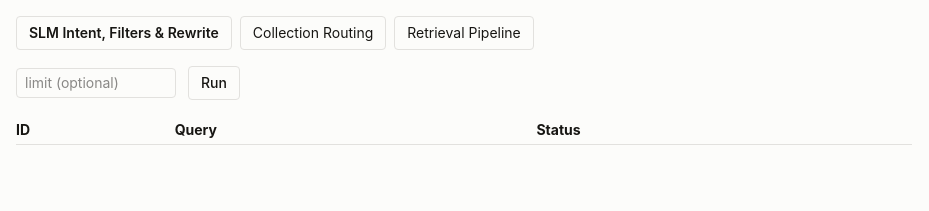
SuiteRunner › runs the selected suite and renders a case row as it streams in
Click the button "Run" at coordinates (214, 83), box x1=188 y1=66 x2=240 y2=100
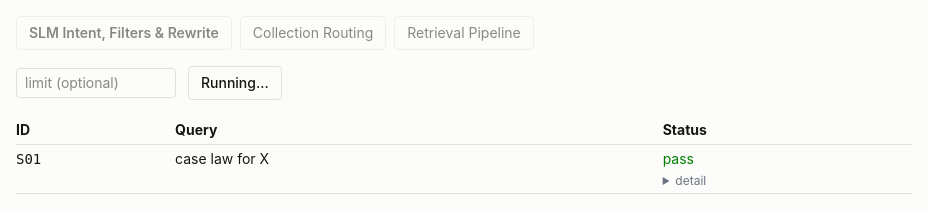
Expected: the text "S01" is shown, x1=16 y1=144 x2=175 y2=194
Expected: the text "case law for X" is shown, x1=175 y1=144 x2=663 y2=194
Expected: the text "pass" is shown, x1=663 y1=150 x2=694 y2=167
